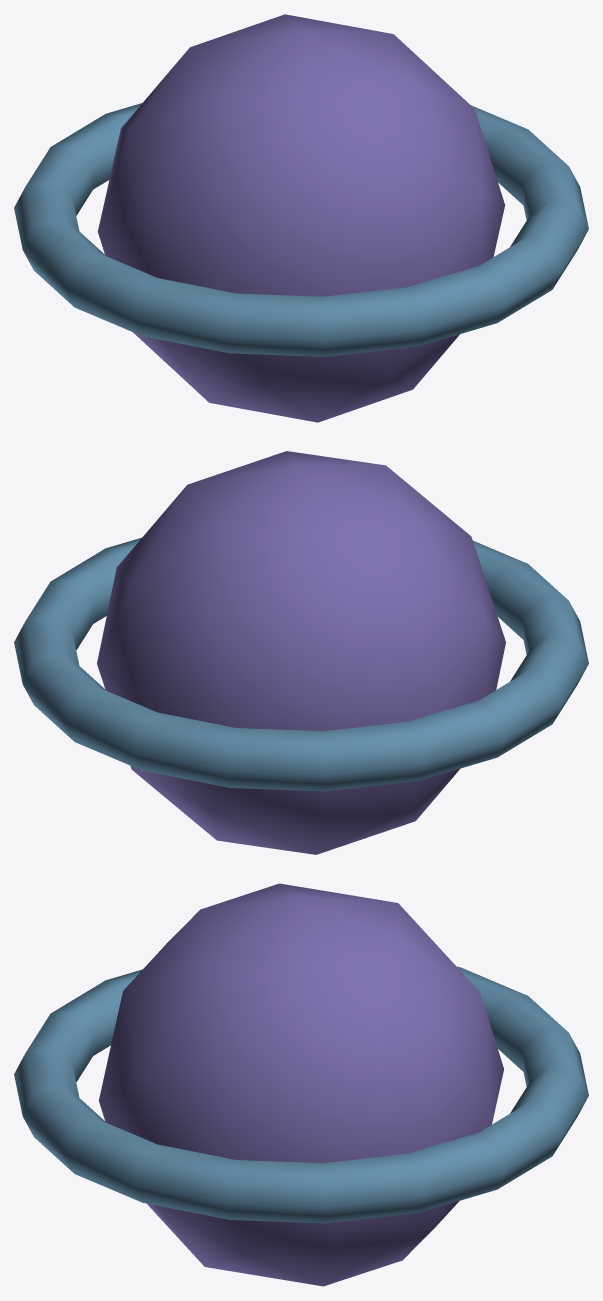
Rendered from off_09_crystal_focus.glb.
3 renders of one model, top to bottom at view 1: azimuth 30°, elevation 25°; view 2: azimuth 150°, elevation 25°; view 3: azimuth 270°, elevation 25°, orthographic.
Parts seen in each view (by area): view 1: focus_core, focus_ring; view 2: focus_core, focus_ring; view 3: focus_core, focus_ring.
Boxes of the visible parts, box(x1,y1,x2,y2) form: focus_core: box(97, 14, 505, 422); focus_ring: box(14, 103, 588, 356); focus_core: box(97, 451, 505, 854); focus_ring: box(14, 537, 588, 791); focus_core: box(99, 883, 503, 1286); focus_ring: box(14, 966, 588, 1223).
Bounding box in the file's own units: 0.5579 × 0.4 × 0.5579.
